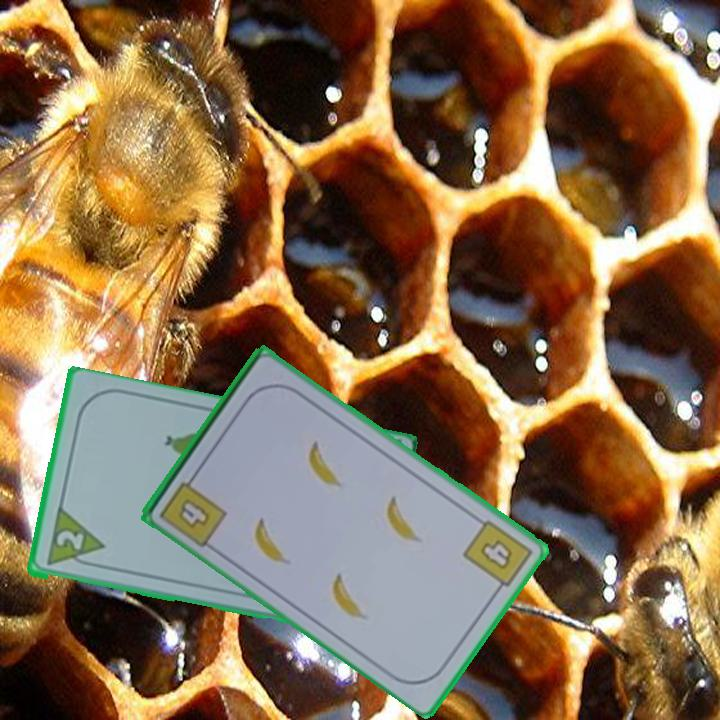2p: (42, 506, 106, 572)
4b: (459, 516, 536, 598), (156, 468, 230, 551)
